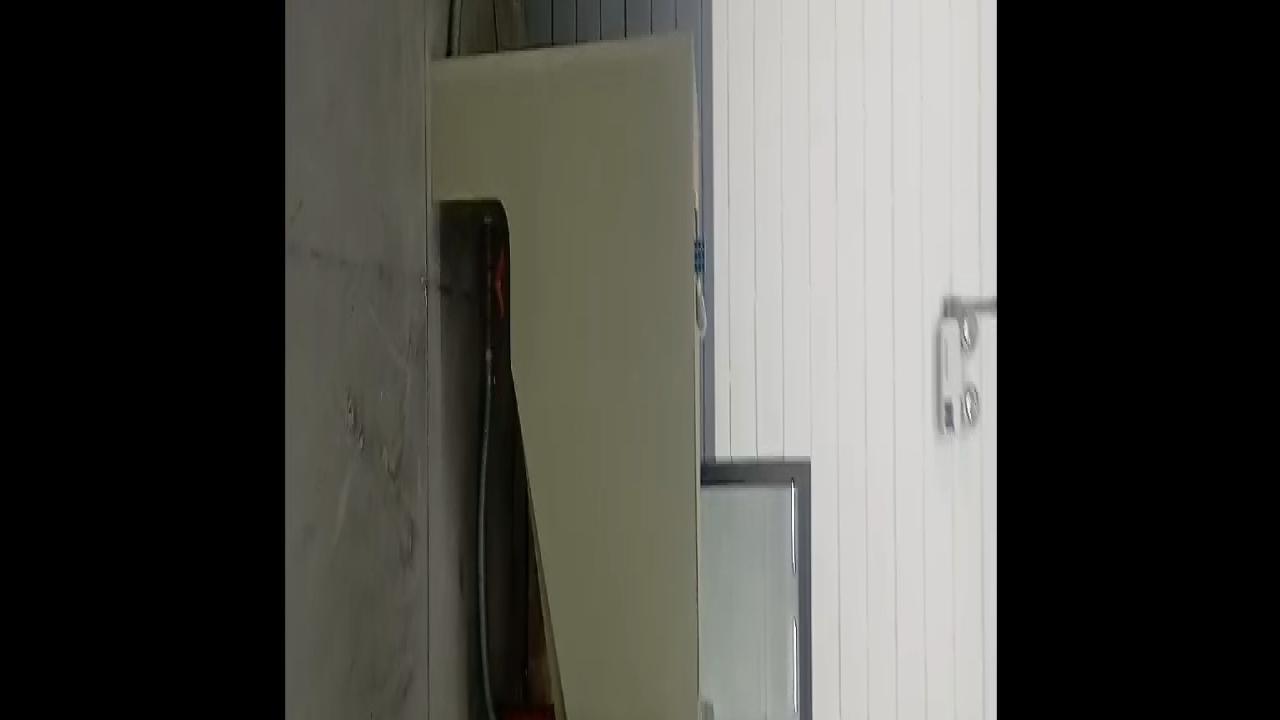Cube: (694, 235, 704, 277)
